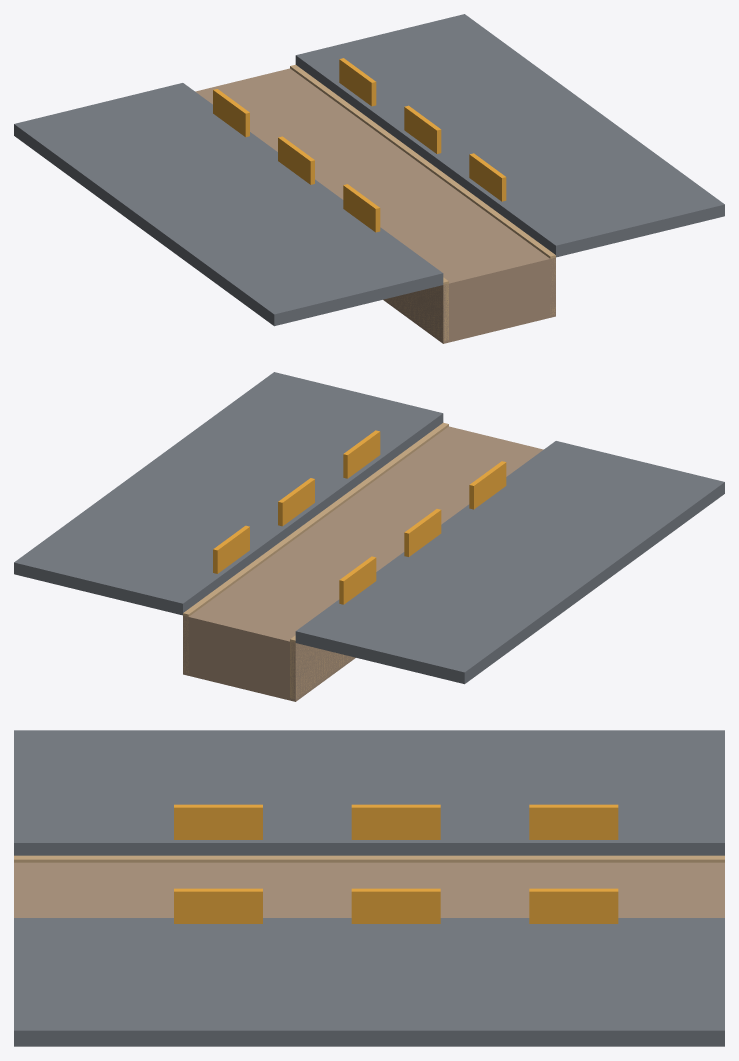
Rendered from water_pipeline_trench.glb.
The picture shows the model from 3 angles, top to bottom: view 1: azimuth 30°, elevation 25°; view 2: azimuth 150°, elevation 25°; view 3: azimuth 270°, elevation 25°; orthographic projection. The views are drawn at different scales.
Parts seen in each view (by area): view 1: RoadAsphaltLeft, RoadAsphaltRight, ExcavatedEarth, TimberShoringRight, TimberShoringLeft, BarrierRight_-2, BarrierRight_3, BarrierRight_-7, BarrierLeft_3, BarrierLeft_-2, BarrierLeft_-7; view 2: RoadAsphaltLeft, RoadAsphaltRight, ExcavatedEarth, TimberShoringRight, TimberShoringLeft, BarrierLeft_-7, BarrierLeft_3, BarrierRight_3, BarrierLeft_-2, BarrierRight_-7, BarrierRight_-2; view 3: RoadAsphaltRight, RoadAsphaltLeft, ExcavatedEarth, TimberShoringLeft, BarrierLeft_-7, BarrierRight_-7, BarrierLeft_-2, BarrierRight_-2, BarrierLeft_3, BarrierRight_3.
Boxes of the visible parts, x1,y1,x2,y2 form: RoadAsphaltLeft: (14,83,443,326); RoadAsphaltRight: (295,14,724,257); ExcavatedEarth: (195,68,555,343); TimberShoringRight: (290,64,555,315); TimberShoringLeft: (385,277,448,341); BarrierRight_-2: (404,105,441,153); BarrierRight_3: (469,153,506,201); BarrierRight_-7: (339,58,376,106); BarrierLeft_3: (343,184,380,232); BarrierLeft_-2: (278,136,314,184); BarrierLeft_-7: (213,89,249,137); RoadAsphaltLeft: (295,441,724,684); RoadAsphaltRight: (14,372,443,615); ExcavatedEarth: (183,426,543,701); TimberShoringRight: (183,422,448,672); TimberShoringLeft: (290,635,351,698); BarrierLeft_-7: (339,556,376,604); BarrierLeft_3: (469,461,506,509); BarrierRight_3: (343,430,380,478); BarrierLeft_-2: (404,509,441,556); BarrierRight_-7: (213,525,249,573); BarrierRight_-2: (278,478,314,526); RoadAsphaltRight: (14,918,724,1046); RoadAsphaltLeft: (14,730,724,855); ExcavatedEarth: (14,862,724,917); TimberShoringLeft: (14,855,724,862); BarrierLeft_-7: (529,804,618,839); BarrierRight_-7: (529,888,618,923); BarrierLeft_-2: (351,804,440,839); BarrierRight_-2: (351,888,440,923); BarrierLeft_3: (174,804,262,839); BarrierRight_3: (174,888,262,923).
Bounding box in the file's own units: 20 × 4.07 × 20.
